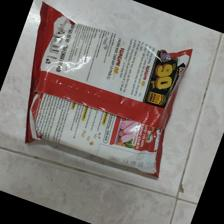Kokomi: (24, 1, 195, 178)
